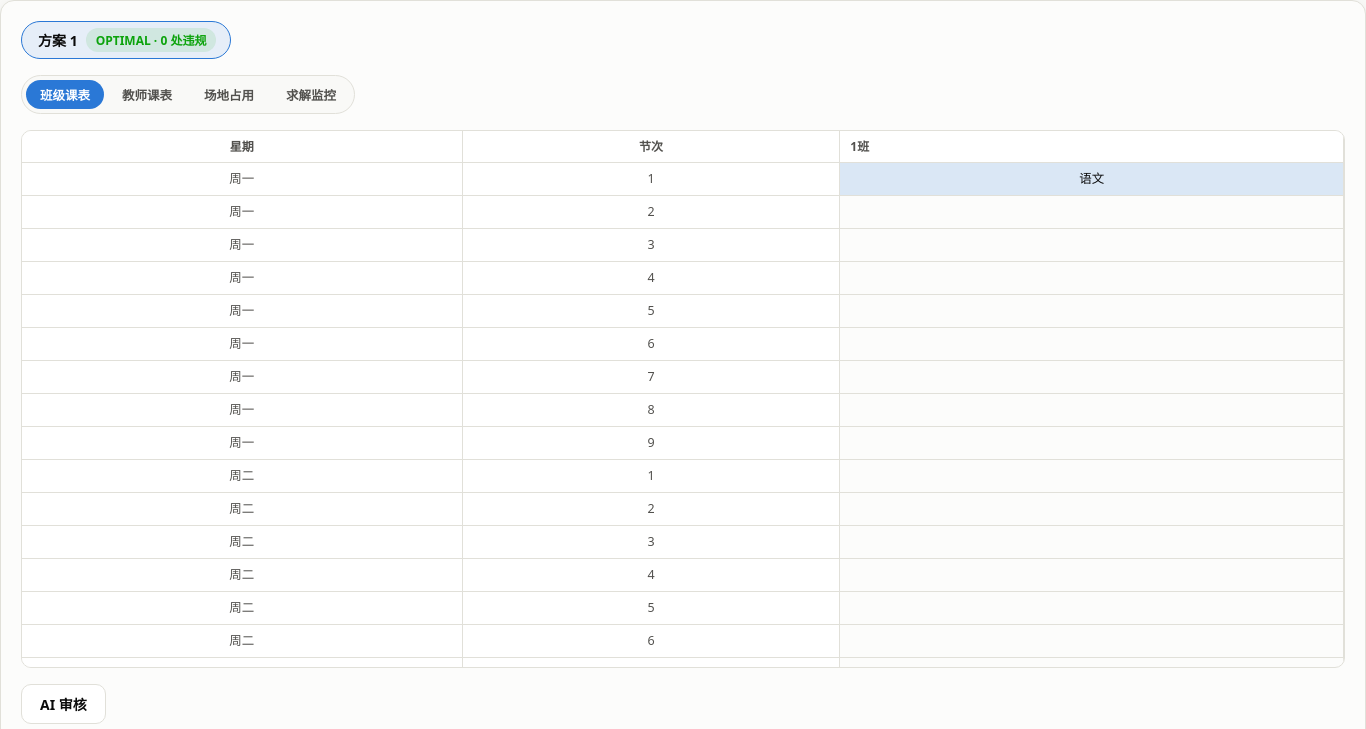
Test: CandidateTabs › switches between the class/teacher/venue views
Click the button with test id "view-teacher". click: (147,94)
box: [108,80,186,109]
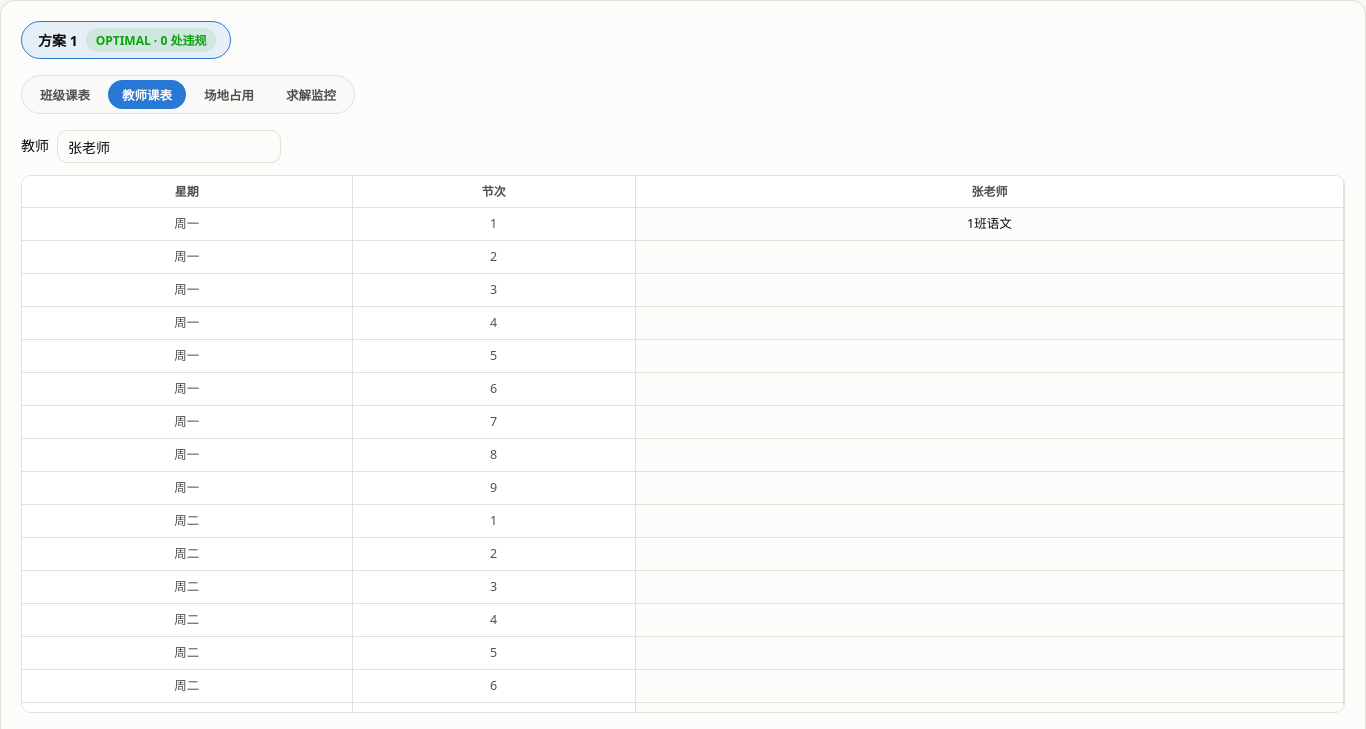
Result: the field with test id "teacher-input" is shown at [57,130,281,163]
Click the button with test id "view-venue". click: (229,94)
box: [190,80,268,109]
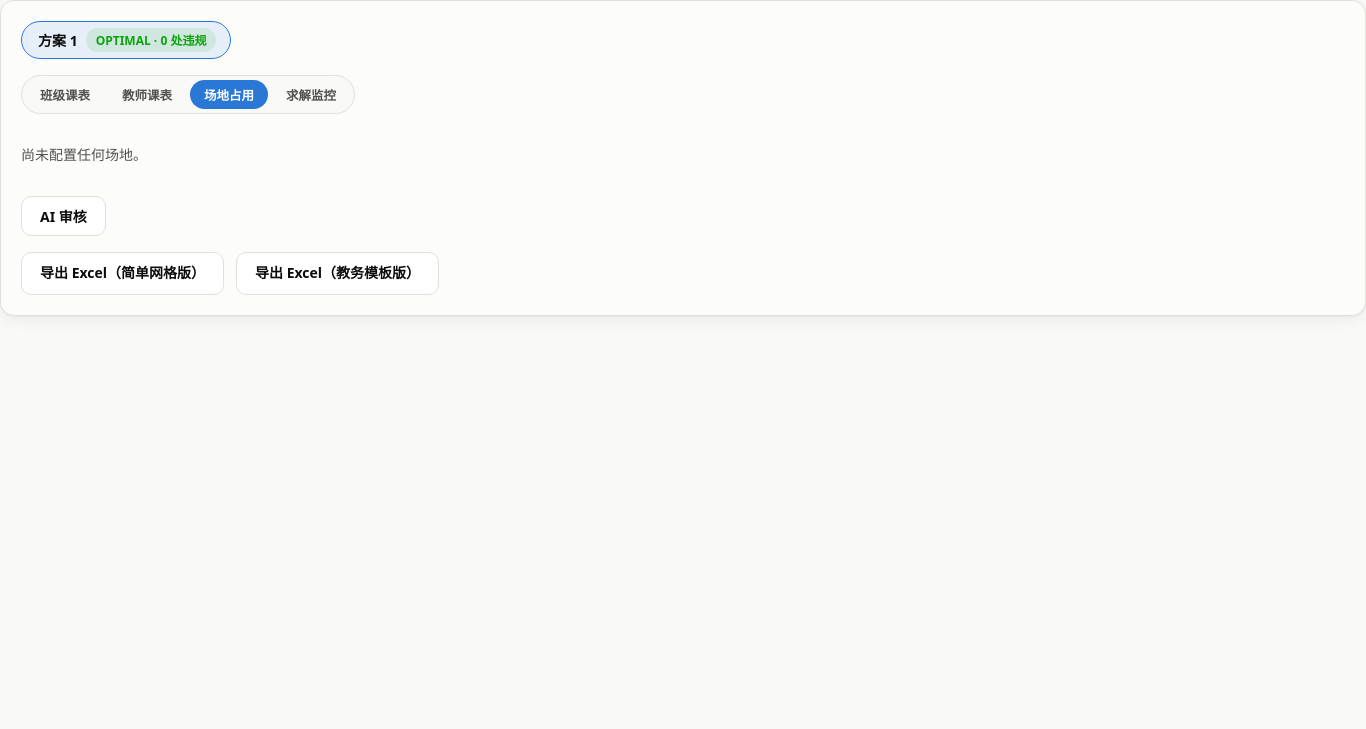
Click the button with test id "view-monitor". click: (311,94)
box: [272,80,350,109]
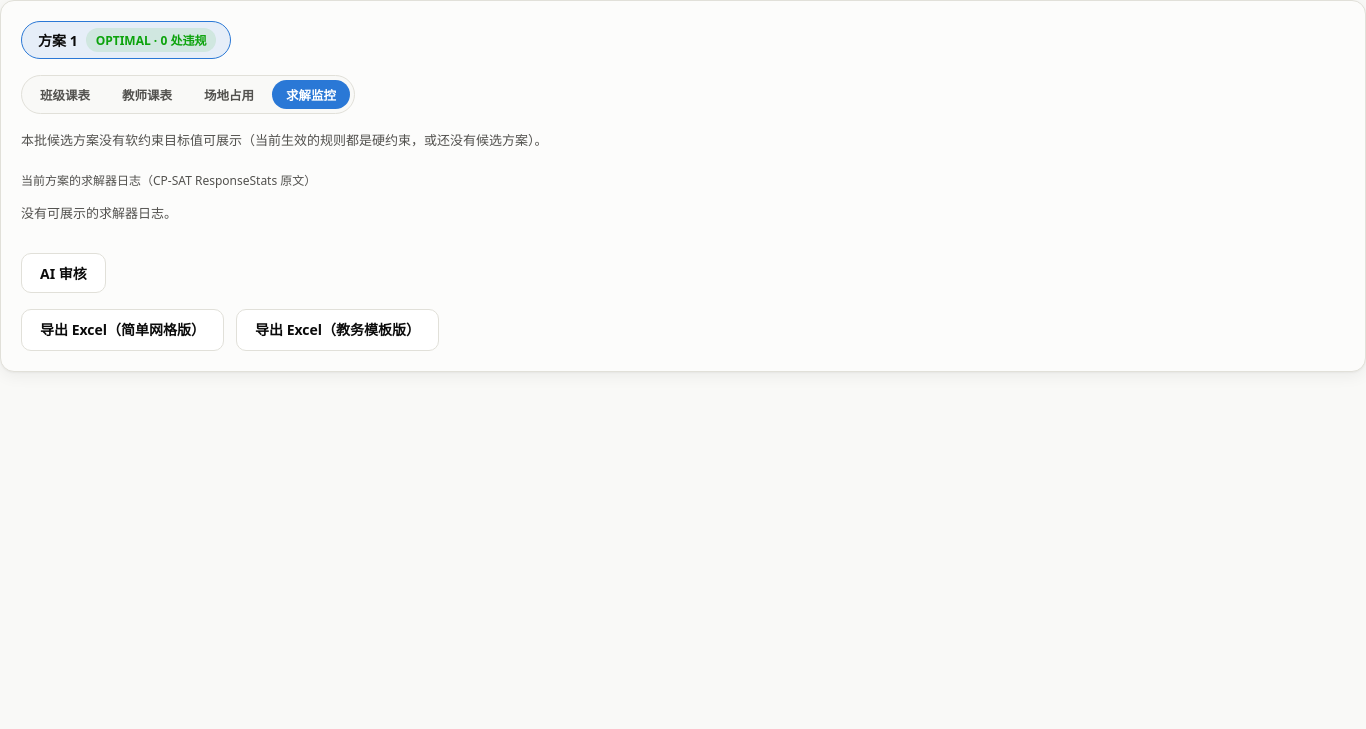
Click the button with test id "view-class". click: (65,94)
box: [26,80,104,109]
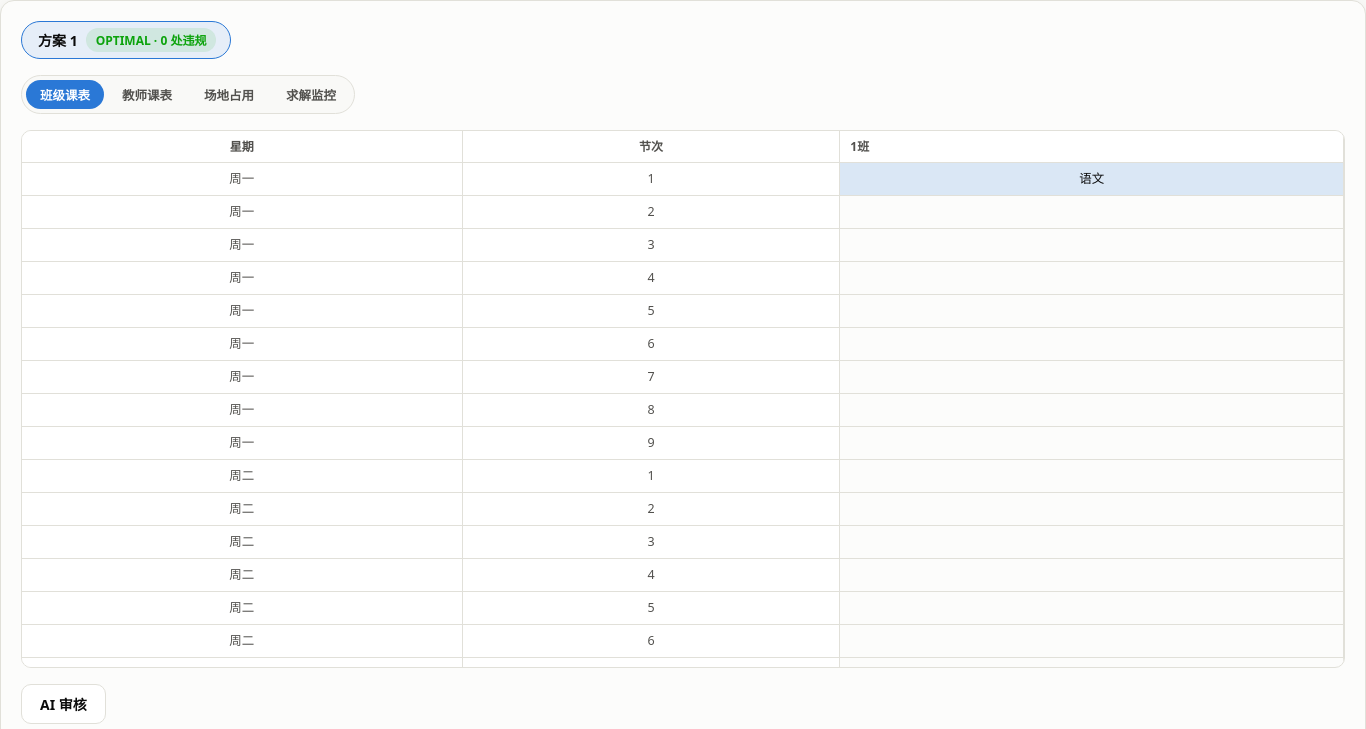
Result: the text "语文" is shown at [840,163,1344,196]
